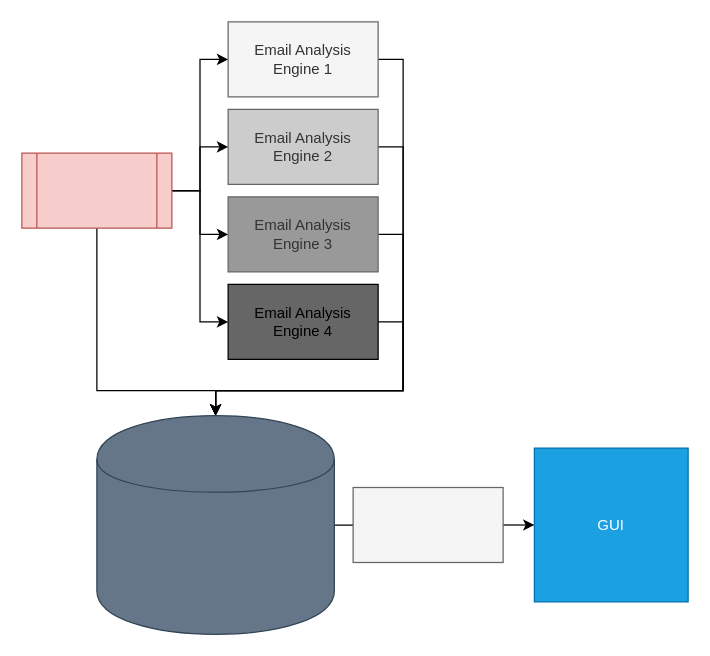
The diagram is 710 pixels wide and 656 high, and some of its shapes have lost their labels. Here are the shapes that lost their labels. From the top down, the centre of each, then its label:
At point (96, 190): "New Email".
At point (215, 524): "TotalEmail's Database".
At point (427, 524): "Score Calculation Algorithm".
